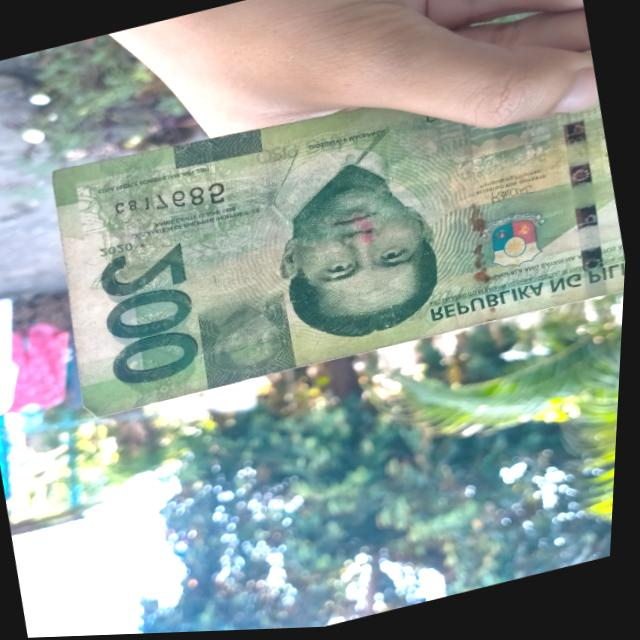concealed_value: (195, 291, 304, 392)
security_thread: (547, 106, 627, 307)
serial_number: (105, 178, 234, 235)
value: (85, 233, 221, 396)
